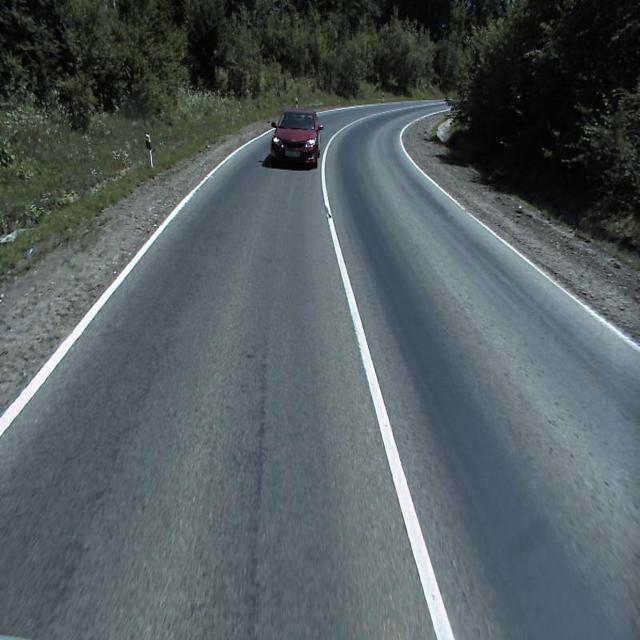road: (0, 99, 640, 639)
